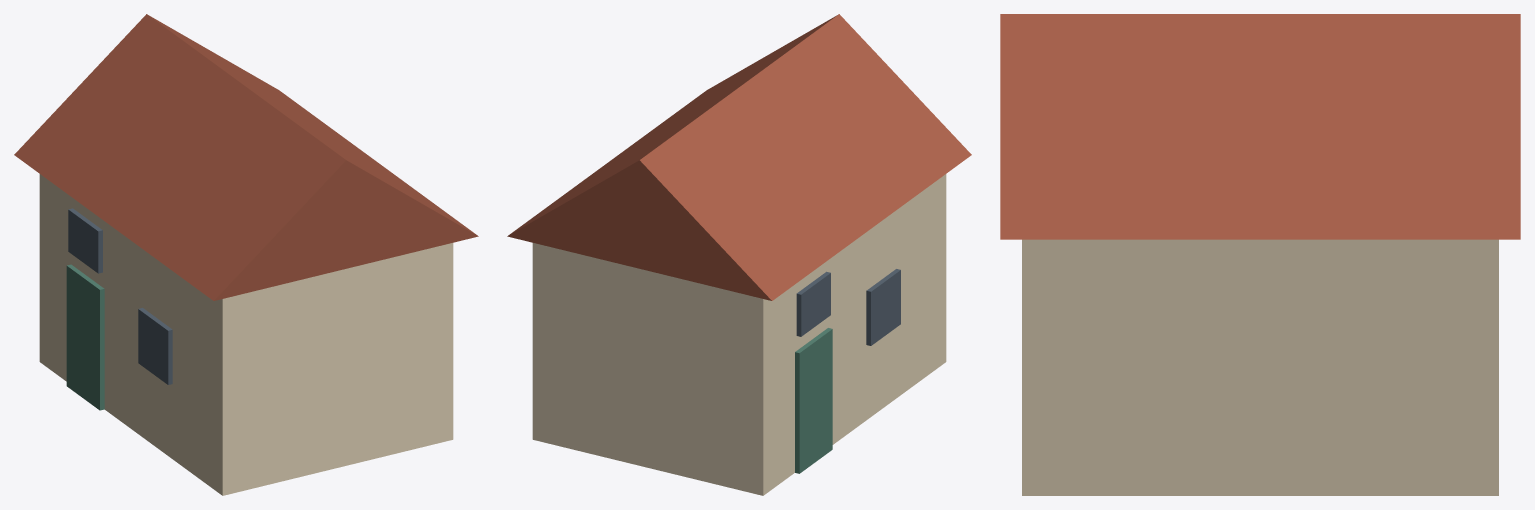
Rendered from SM_House_South.fbx.
3 renders of one model, left to right at view 1: azimuth 30°, elevation 25°; view 2: azimuth 150°, elevation 25°; view 3: azimuth 270°, elevation 25°, orthographic. The views are drawn at different scales.
Parts seen in each view (by area): view 1: Body.002, Roof.002, Door.002, Window_A.002, Window_B.001; view 2: Body.002, Roof.002, Door.002, Window_A.002, Window_B.001; view 3: Body.002, Roof.002.
Boxes of the visible parts, x1,y1,x2,y2 form: Body.002: [39, 174, 453, 495]; Roof.002: [14, 14, 478, 300]; Door.002: [66, 264, 104, 410]; Window_A.002: [138, 308, 172, 384]; Window_B.001: [68, 208, 102, 273]; Body.002: [532, 174, 946, 495]; Roof.002: [507, 14, 971, 300]; Door.002: [795, 328, 832, 473]; Window_A.002: [866, 269, 900, 345]; Window_B.001: [796, 271, 830, 336]; Body.002: [1022, 239, 1498, 495]; Roof.002: [1000, 14, 1520, 239].
Bounding box in the file's own units: 4.6 × 5.2 × 6.
